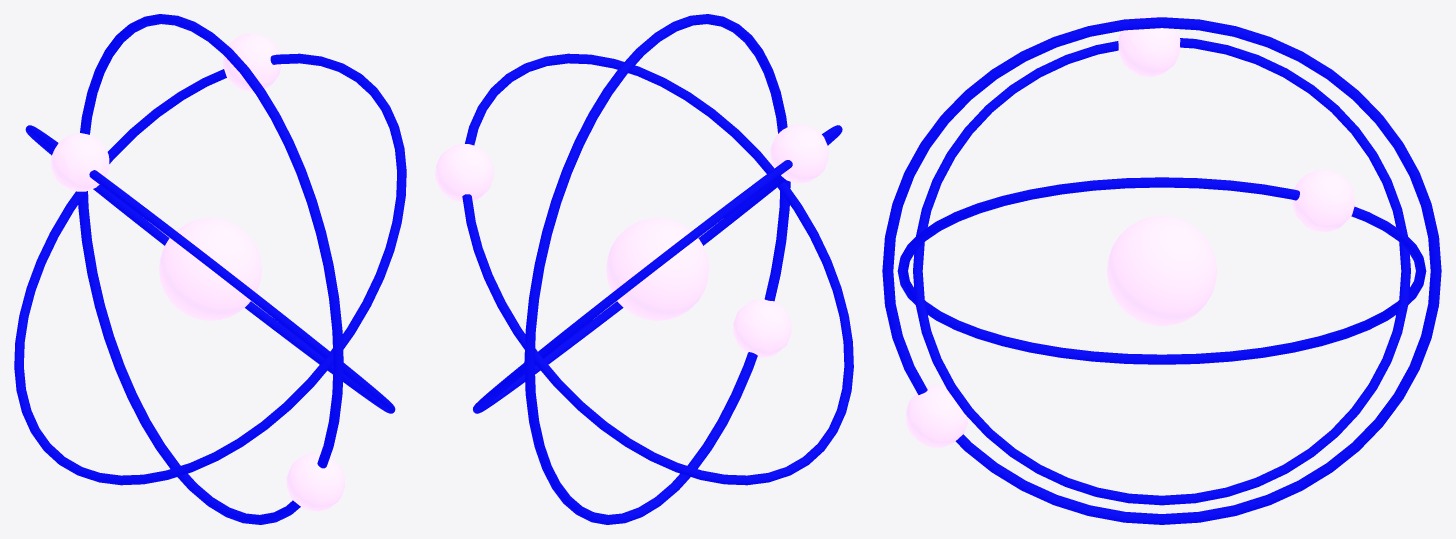
The model's file is white_blue.glb.
3 renders of one model, left to right at view 1: azimuth 30°, elevation 25°; view 2: azimuth 150°, elevation 25°; view 3: azimuth 270°, elevation 25°, orthographic. The views are drawn at different scales.
Visible parts, largest first — view 1: GN Instance (×4), Middle Point; view 2: GN Instance (×4), Middle Point; view 3: GN Instance (×4), Middle Point.
Part boxes in pixels (bbox=[...]): GN Instance (×4): bbox=[14, 14, 406, 524]; Middle Point: bbox=[159, 218, 261, 320]; GN Instance (×4): bbox=[435, 14, 853, 524]; Middle Point: bbox=[606, 218, 708, 320]; GN Instance (×4): bbox=[882, 14, 1441, 524]; Middle Point: bbox=[1107, 216, 1216, 325].
Size of the model in its own units: 7.02 by 10.14 by 10.14.
